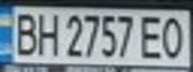2: (60, 10, 84, 58)
5: (100, 11, 121, 58)
7: (115, 11, 139, 58), (81, 11, 103, 58)
B: (9, 9, 39, 56)
E: (136, 12, 166, 60)
H: (33, 9, 60, 57)
O: (157, 13, 190, 60)
